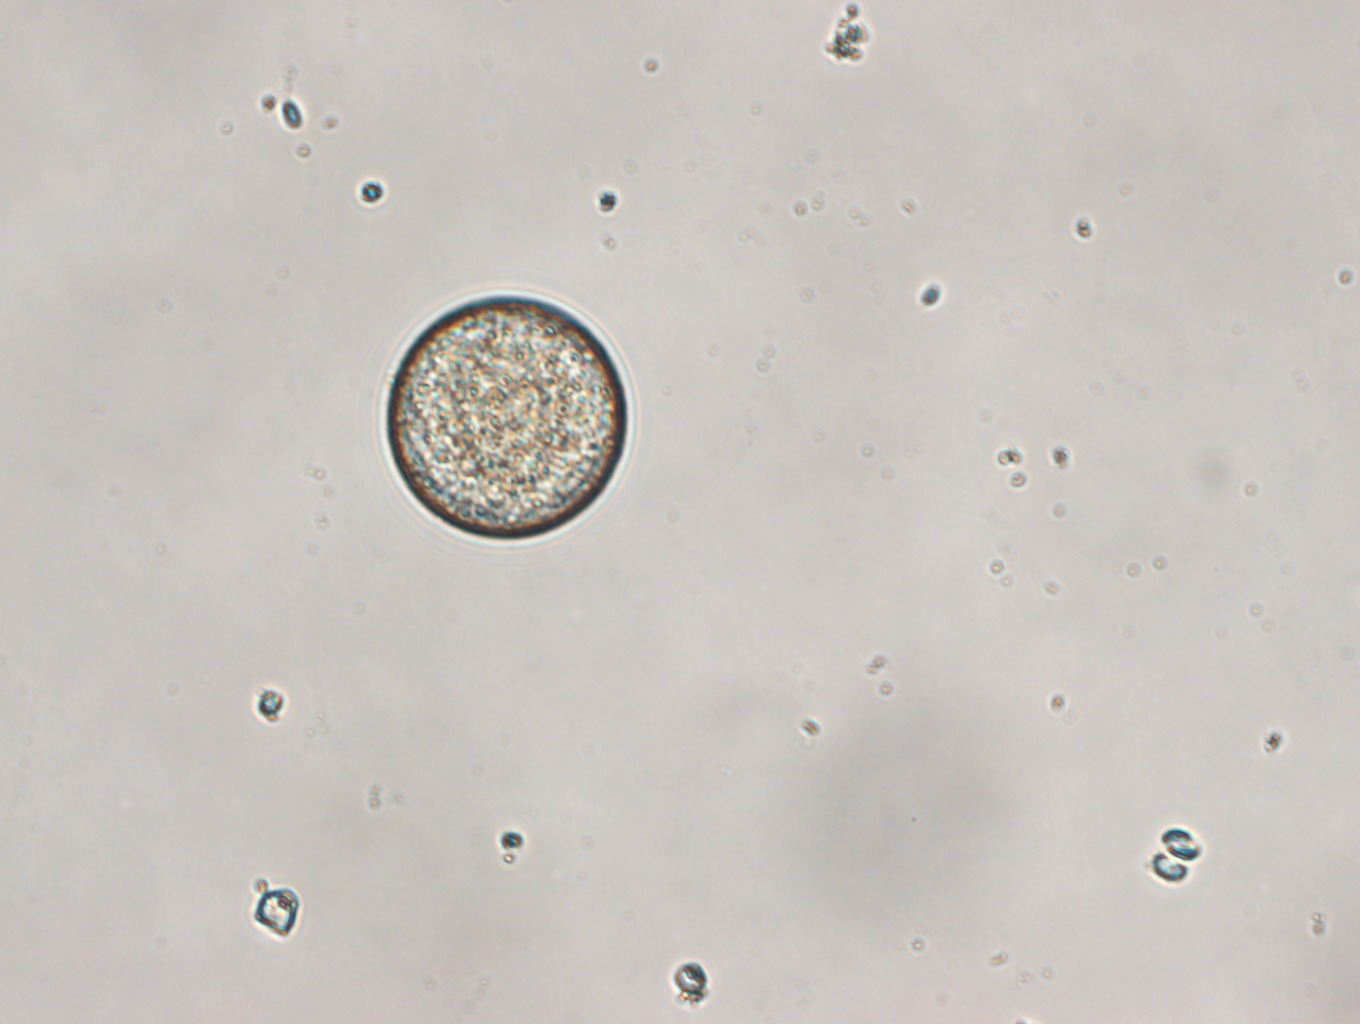coscinodiscus: (376, 286, 635, 553)
